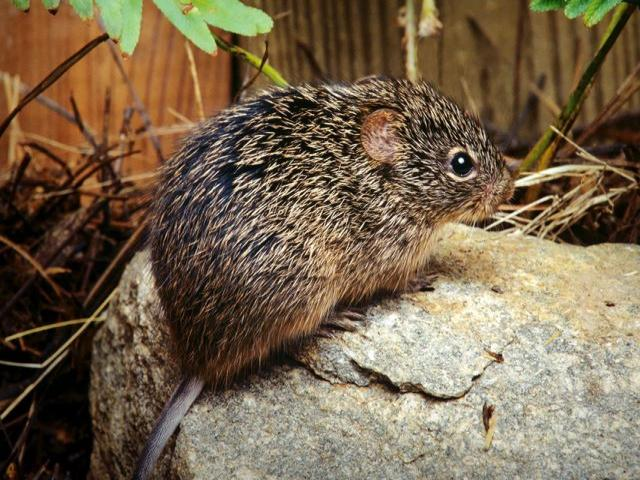Tikus: (132, 76, 520, 417)
